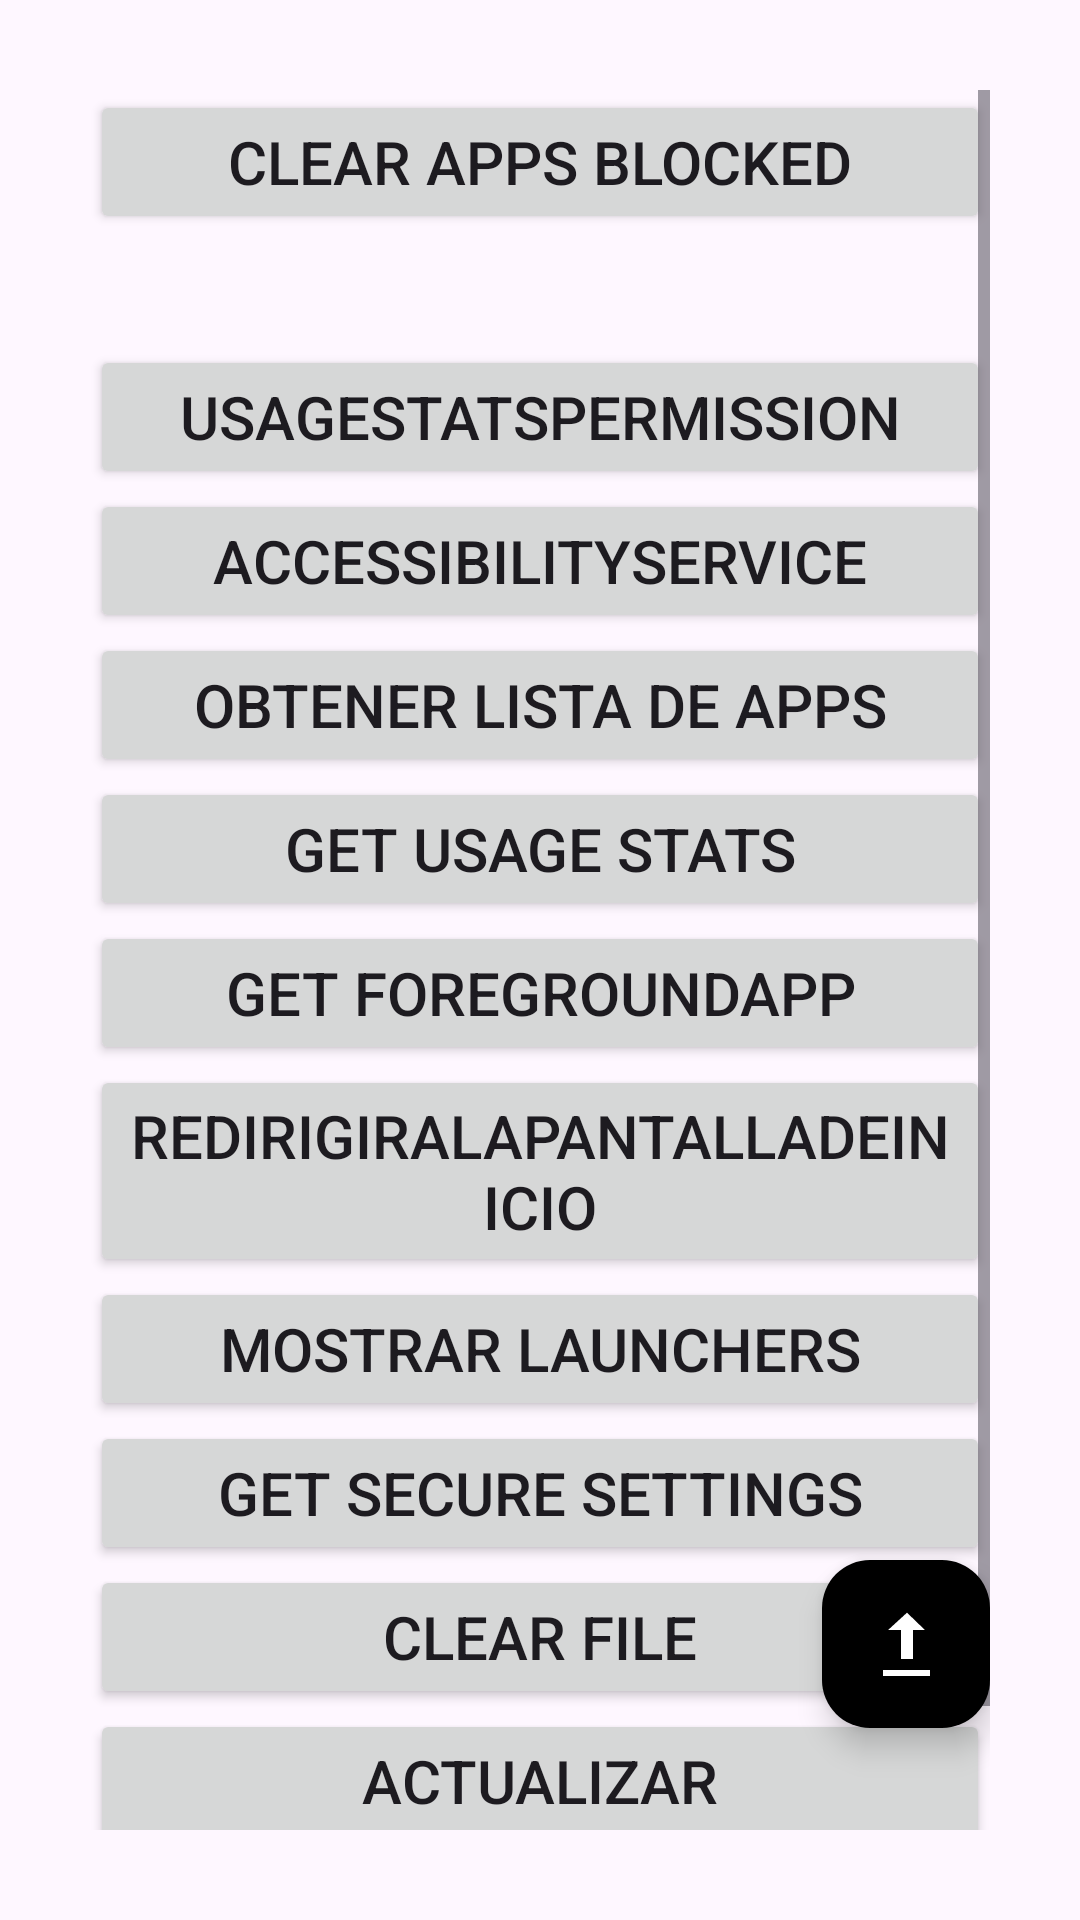

Icons on this 1080x1920 Android screen, each with the point to tap as (x,y):
upload: (906,1644)
